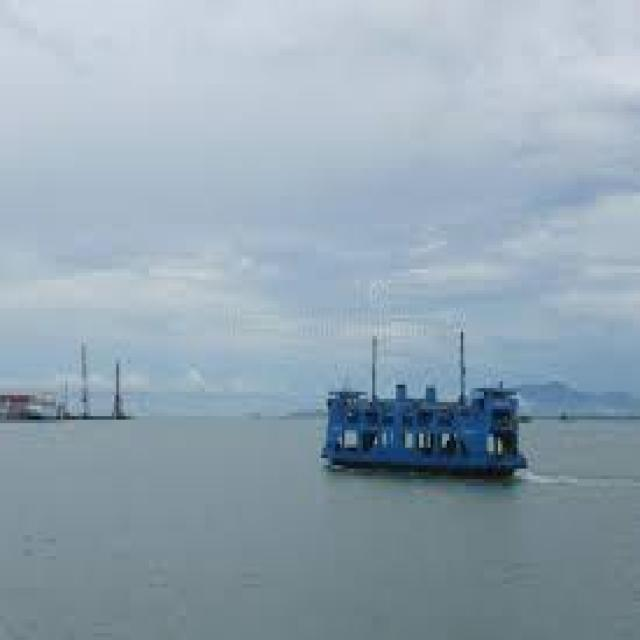houseboat: (301, 334, 534, 474)
